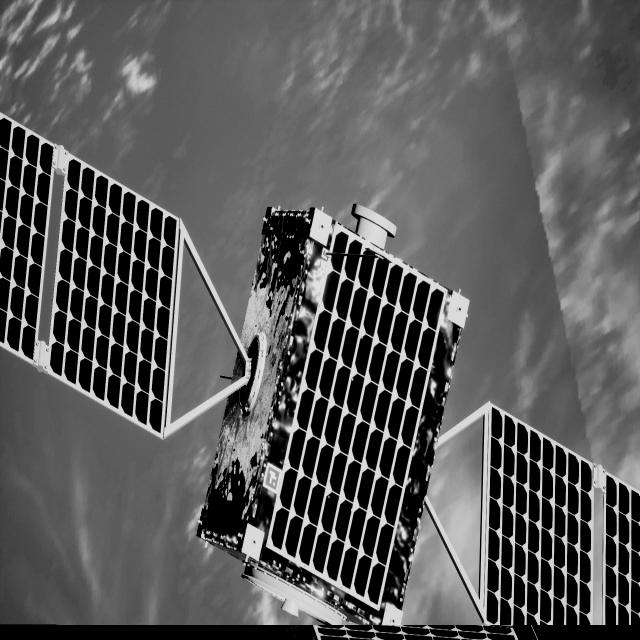medium_debris: (0, 115, 640, 629)
